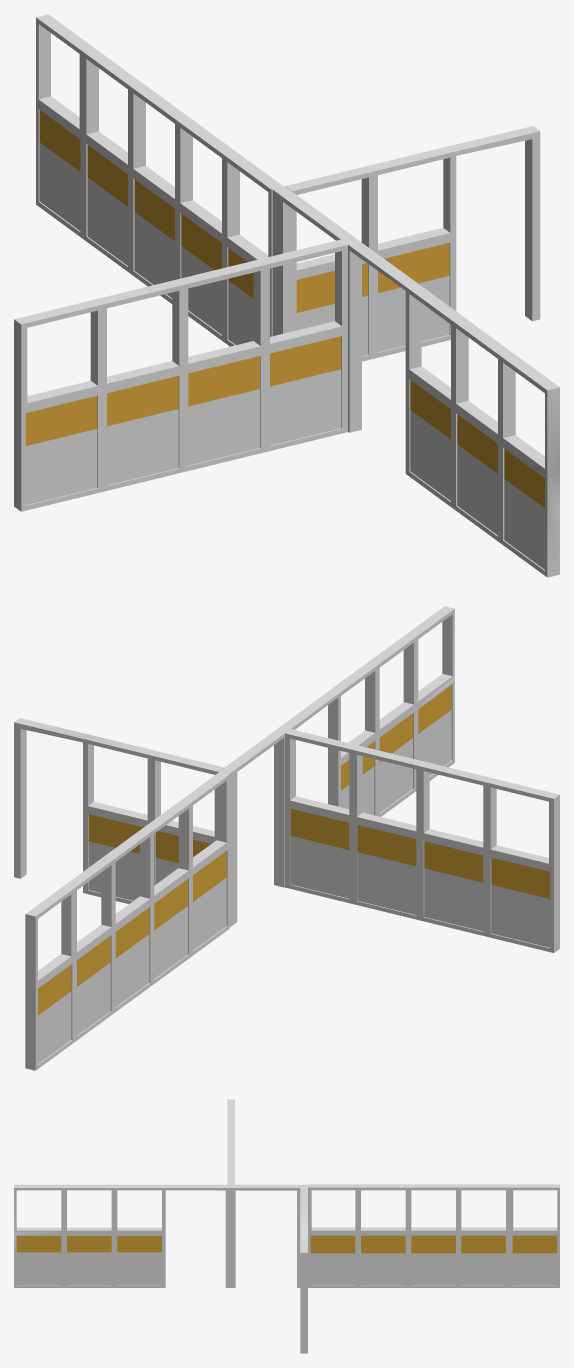
The model's file is ParedMedios 1.fbx.
3 views of the same model, one above another, from view 1: azimuth 30°, elevation 25°; view 2: azimuth 150°, elevation 25°; view 3: azimuth 270°, elevation 25° (orthographic). The views are drawn at different scales.
Visible parts, largest first — view 1: Pared C1-C3, Pared C1, Pared C2-C3, Pared C2, Pared C2-C3.001; view 2: Pared C1-C3, Pared C2-C3, Pared C1, Pared C2, Pared C2-C3.001; view 3: Pared C2-C3, Pared C1, Pared C2-C3.001, Pared C2, Pared C1-C3.
Part boxes in pixels (bbox=[...]): Pared C1-C3: bbox=[14, 239, 347, 511]; Pared C1: bbox=[272, 186, 559, 577]; Pared C2-C3: bbox=[83, 48, 283, 346]; Pared C2: bbox=[285, 126, 540, 361]; Pared C2-C3.001: bbox=[36, 14, 94, 238]; Pared C1-C3: bbox=[285, 729, 559, 952]; Pared C2-C3: bbox=[64, 772, 229, 1042]; Pared C1: bbox=[218, 606, 454, 927]; Pared C2: bbox=[14, 718, 223, 903]; Pared C2-C3.001: bbox=[25, 886, 74, 1070]; Pared C2-C3: bbox=[308, 1184, 509, 1287]; Pared C1: bbox=[14, 1184, 307, 1287]; Pared C2-C3.001: bbox=[509, 1184, 559, 1287]; Pared C2: bbox=[300, 1188, 307, 1353]; Pared C1-C3: bbox=[227, 1099, 234, 1184].
Bounding box in the file's own units: 1555 × 477 × 2339.
